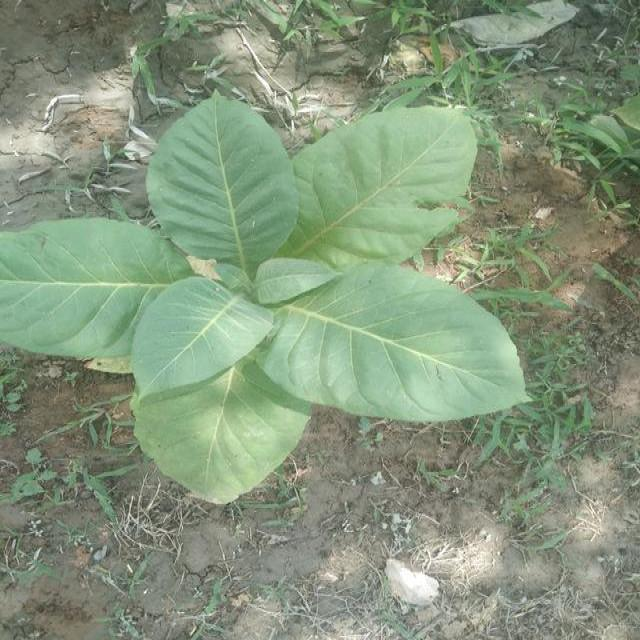crop: (6, 88, 530, 508)
